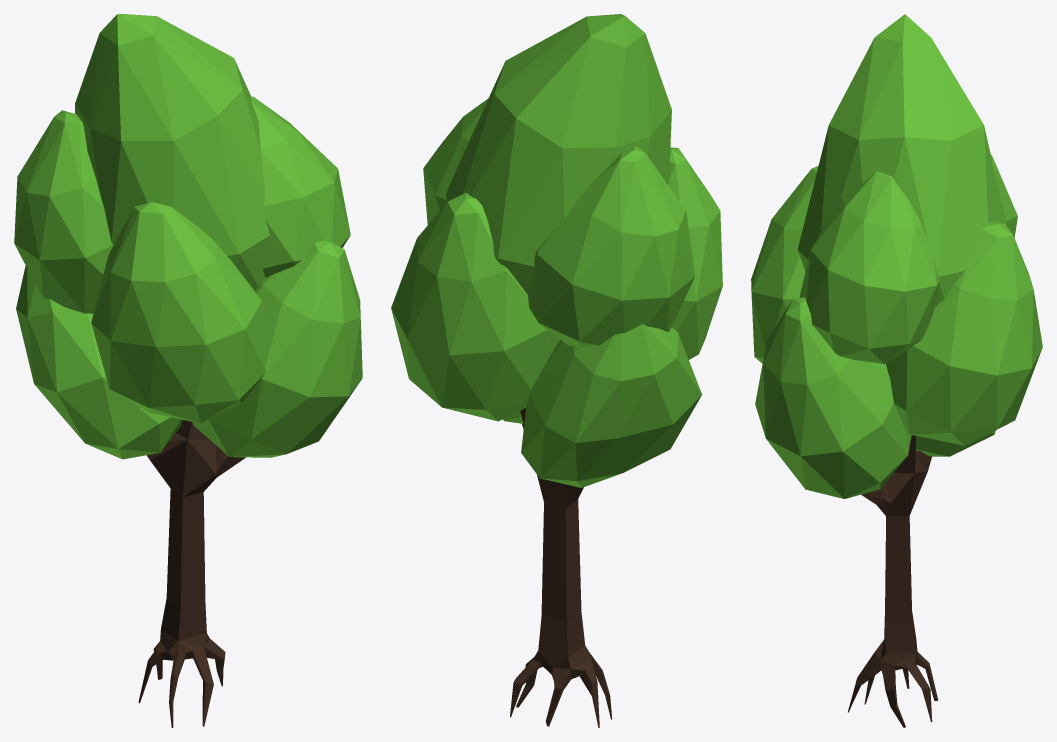
File: Tree_06.fbx
The picture shows the model from 3 angles, left to right: view 1: azimuth 30°, elevation 25°; view 2: azimuth 150°, elevation 25°; view 3: azimuth 270°, elevation 25°; orthographic projection. The views are drawn at different scales.
Parts seen in each view (by area): view 1: Tree_06; view 2: Tree_06; view 3: Tree_06.
Boxes of the visible parts, x1=… form: Tree_06: x1=14, y1=14, x2=362, y2=727; Tree_06: x1=391, y1=14, x2=722, y2=727; Tree_06: x1=751, y1=14, x2=1042, y2=727.
Bounding box in the file's own units: 5.61 × 13.82 × 5.42.
